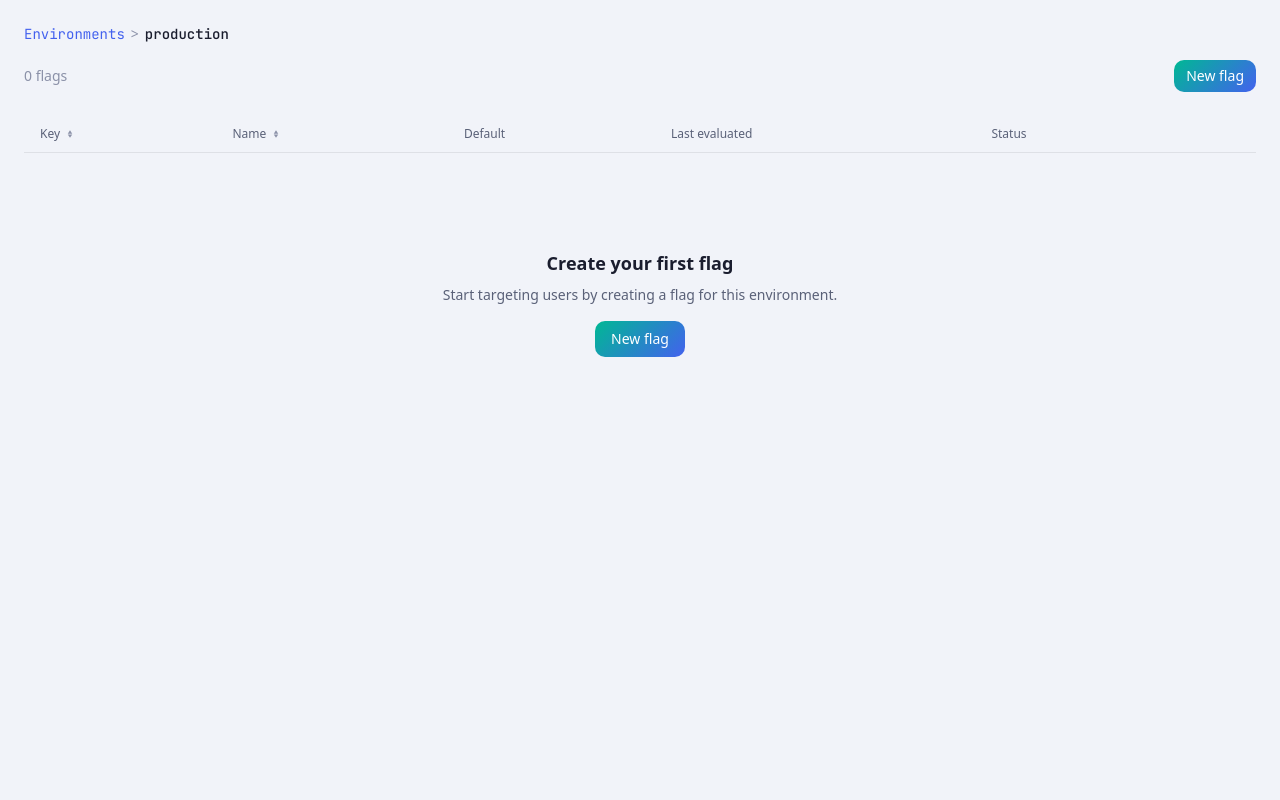
Test: CreateFlagModal — post-create success state › shows inline error for invalid flag key
Expected: the heading "Create your first flag" is shown, [547,251,733,275]
Click the button "New flag" in the row of "0 flags".
click(1215, 76)  # box [1174,60,1256,92]
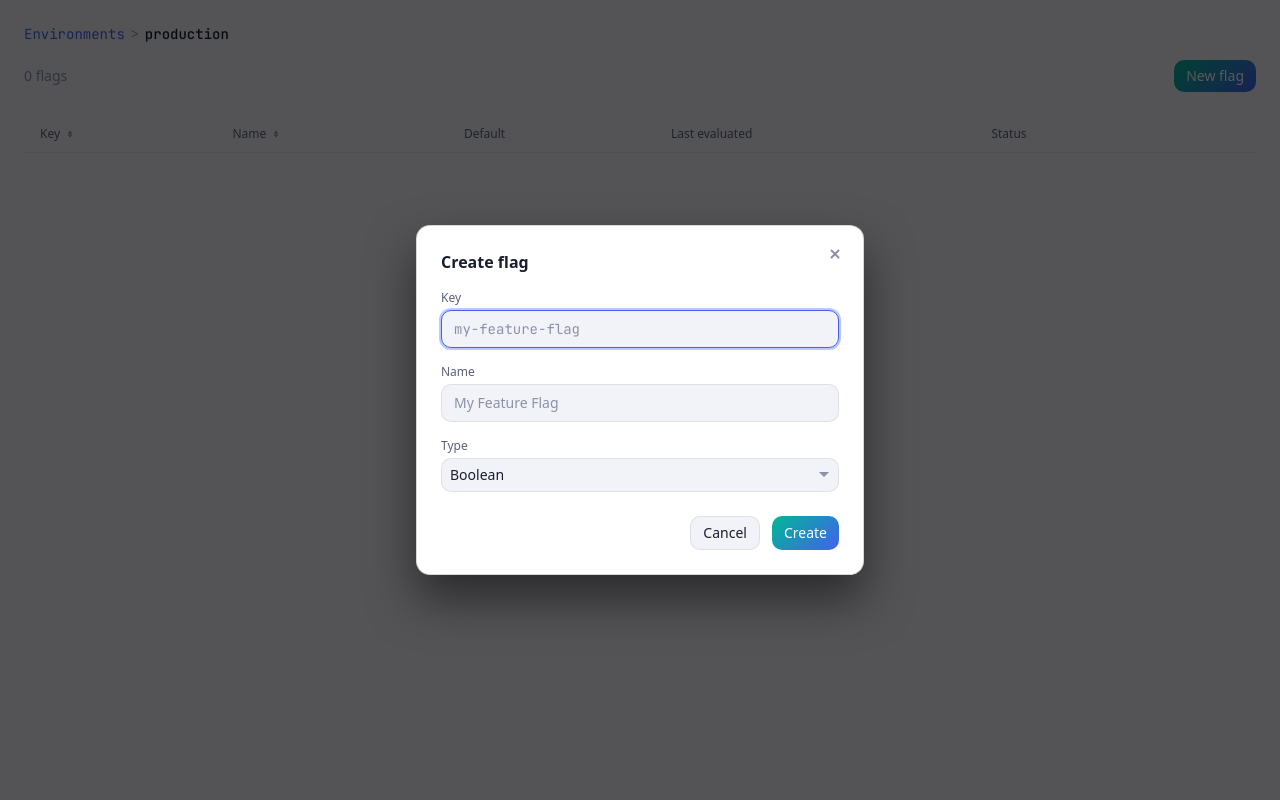
Type "INVALID KEY" into the field with placeholder "my-feature-flag".
click(640, 329); type("INVALID KEY")  # box [441,310,839,348]
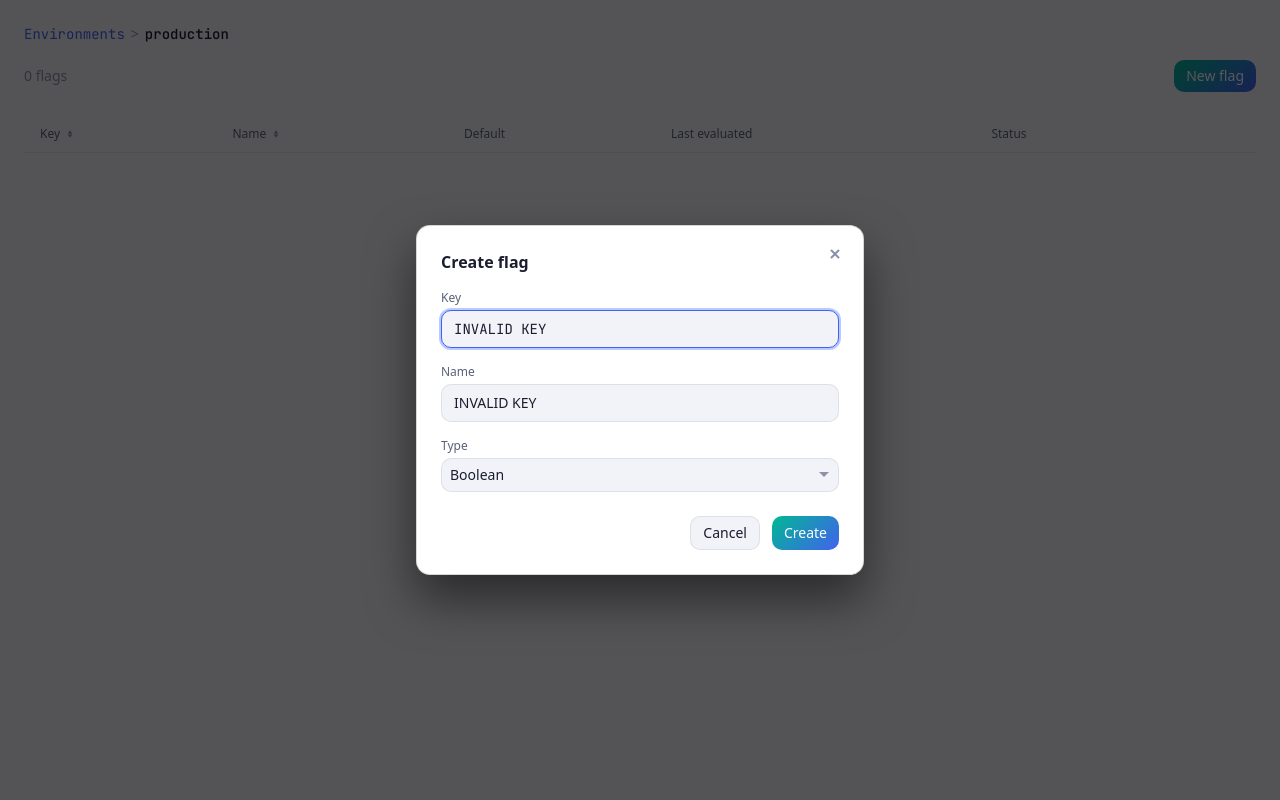
Press Tab
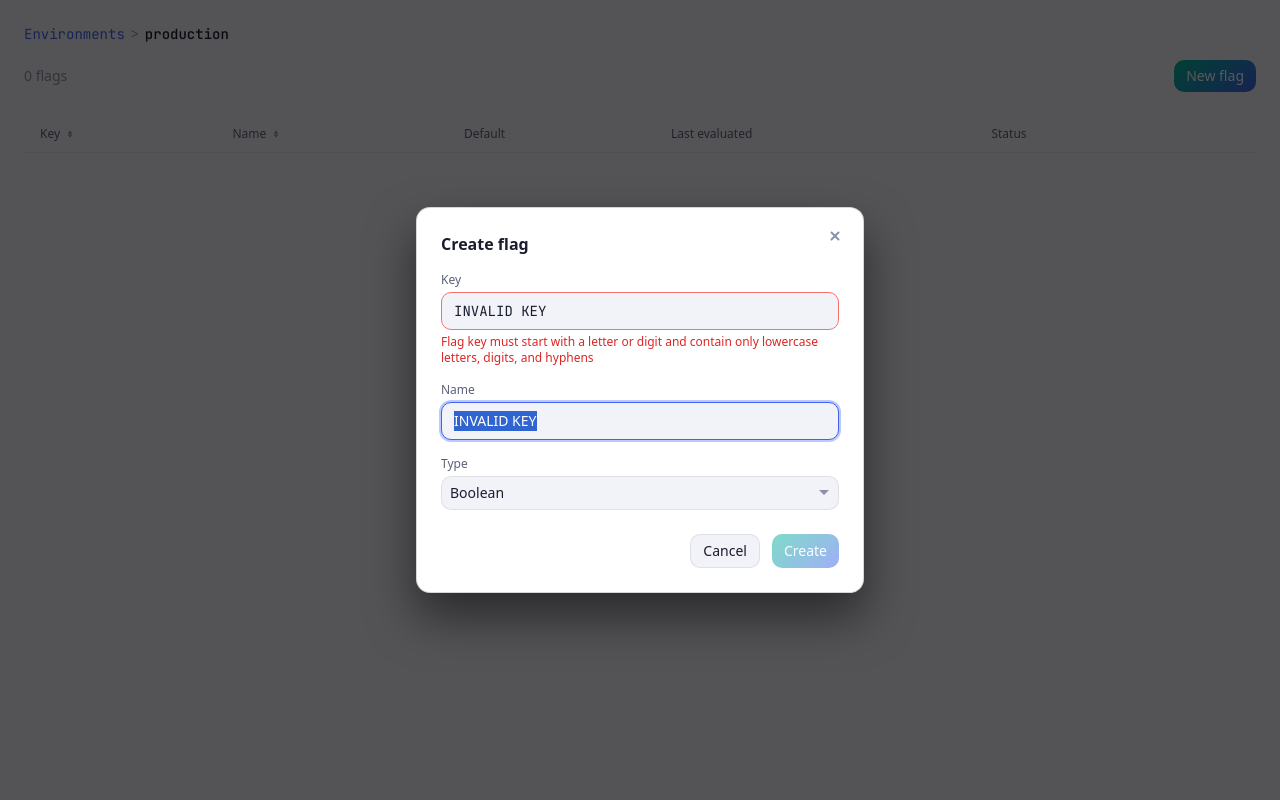
Now the heading "Create flag" is shown, box [441,233,529,255]
Now the text "lowercase" is shown, box [441,333,818,366]
